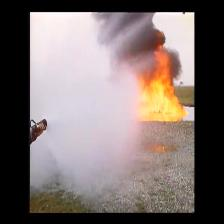fire: (142, 43, 183, 122)
smoke: (95, 11, 143, 77)
